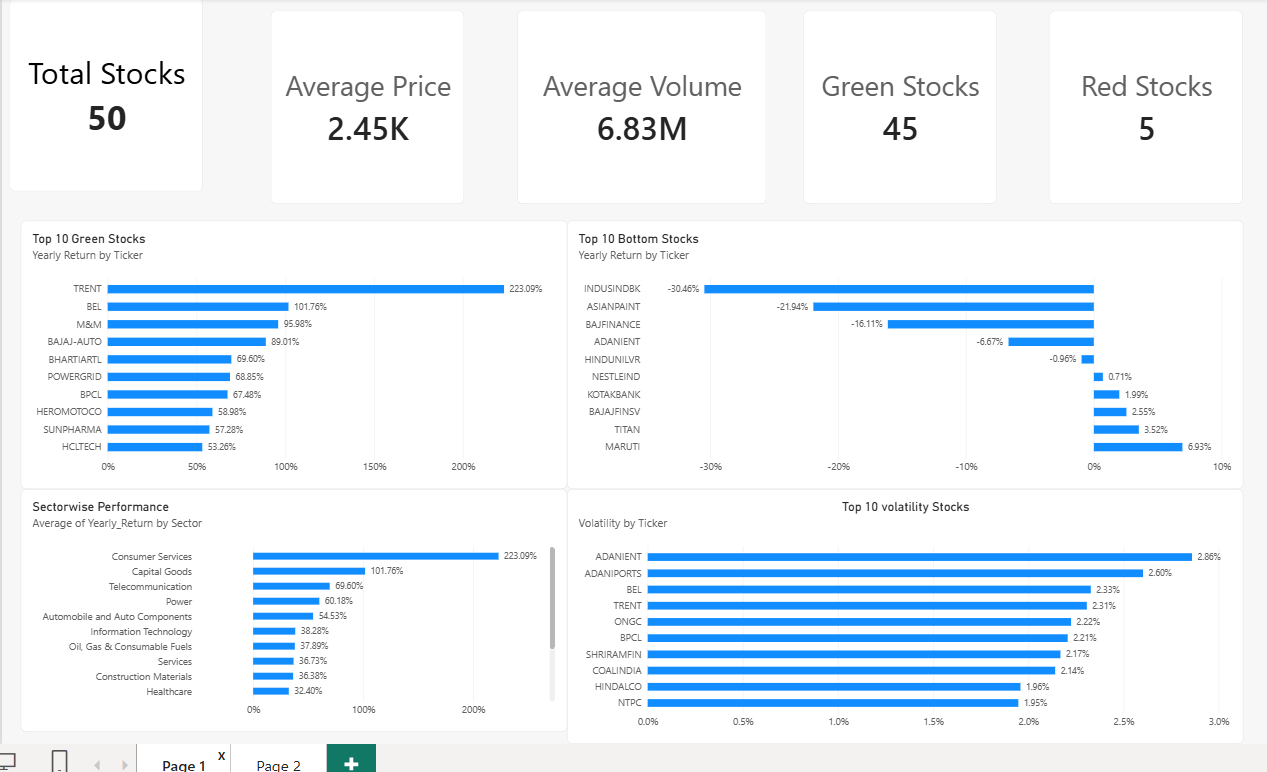

What the dashboard file says about the page in this screenshot:
{"tool":"powerbi","page":{"name":"Page 1","canvas":[1920,1080],"ordinal":0},"visuals":[{"type":"cardVisual","fields":{"Data":["stock_market_data.Total Stocks"]},"box":[10,0,280,280],"z":0},{"type":"cardVisual","fields":{"Data":["stock_market_data.Average Price"]},"box":[389,18.5,280,280],"z":1000},{"type":"cardVisual","fields":{"Data":["stock_market_data.Average Volume"]},"box":[745.6,18.1,361.9,280.5],"z":2000},{"type":"cardVisual","fields":{"Data":["stock_market_data.Green Stocks"]},"box":[1160.9,18.5,280,280],"z":3000},{"type":"cardVisual","fields":{"Data":["stock_market_data.Red Stocks"]},"box":[1517,18.5,280,280],"z":4000},{"type":"clusteredBarChart","title":"Top 10 Green Stocks","fields":{"Category":["stock_market_data.Ticker"],"Y":["stock_market_data.Yearly Return"]},"box":[27.1,322.1,790.8,389.1],"z":5000},{"type":"clusteredBarChart","title":"Top 10 Bottom Stocks","fields":{"Category":["stock_market_data.Ticker"],"Y":["stock_market_data.Yearly Return"]},"box":[818,322.1,979,389.1],"z":6000},{"type":"clusteredBarChart","title":"Top 10 volatility Stocks","fields":{"Category":["stock_market_data.Ticker"],"Y":["stock_market_data.Volatility"]},"box":[818,711.2,979,369.2],"z":7000},{"type":"clusteredBarChart","title":"Sectorwise Performance","fields":{"Category":["stock_summary.Sector"],"Y":["Avg(stock_summary.Yearly_Return)"]},"box":[27.1,711.2,790.8,351.1],"z":8000}]}

Visuals, with their boxes on the page's 1920x1080 design canvas (x1, y1, x2, y2). These are canvas units, not pixel positions in the 1267x772 screenshot, which may show the page scaled, cropped or inside an application window:
cardVisual - stock_market_data.Total Stocks: {"x1": 10, "y1": 0, "x2": 290, "y2": 280}
cardVisual - stock_market_data.Average Price: {"x1": 389, "y1": 18, "x2": 669, "y2": 298}
cardVisual - stock_market_data.Average Volume: {"x1": 746, "y1": 18, "x2": 1108, "y2": 299}
cardVisual - stock_market_data.Green Stocks: {"x1": 1161, "y1": 18, "x2": 1441, "y2": 298}
cardVisual - stock_market_data.Red Stocks: {"x1": 1517, "y1": 18, "x2": 1797, "y2": 298}
"Top 10 Green Stocks" clusteredBarChart: {"x1": 27, "y1": 322, "x2": 818, "y2": 711}
"Top 10 Bottom Stocks" clusteredBarChart: {"x1": 818, "y1": 322, "x2": 1797, "y2": 711}
"Top 10 volatility Stocks" clusteredBarChart: {"x1": 818, "y1": 711, "x2": 1797, "y2": 1080}
"Sectorwise Performance" clusteredBarChart: {"x1": 27, "y1": 711, "x2": 818, "y2": 1062}
